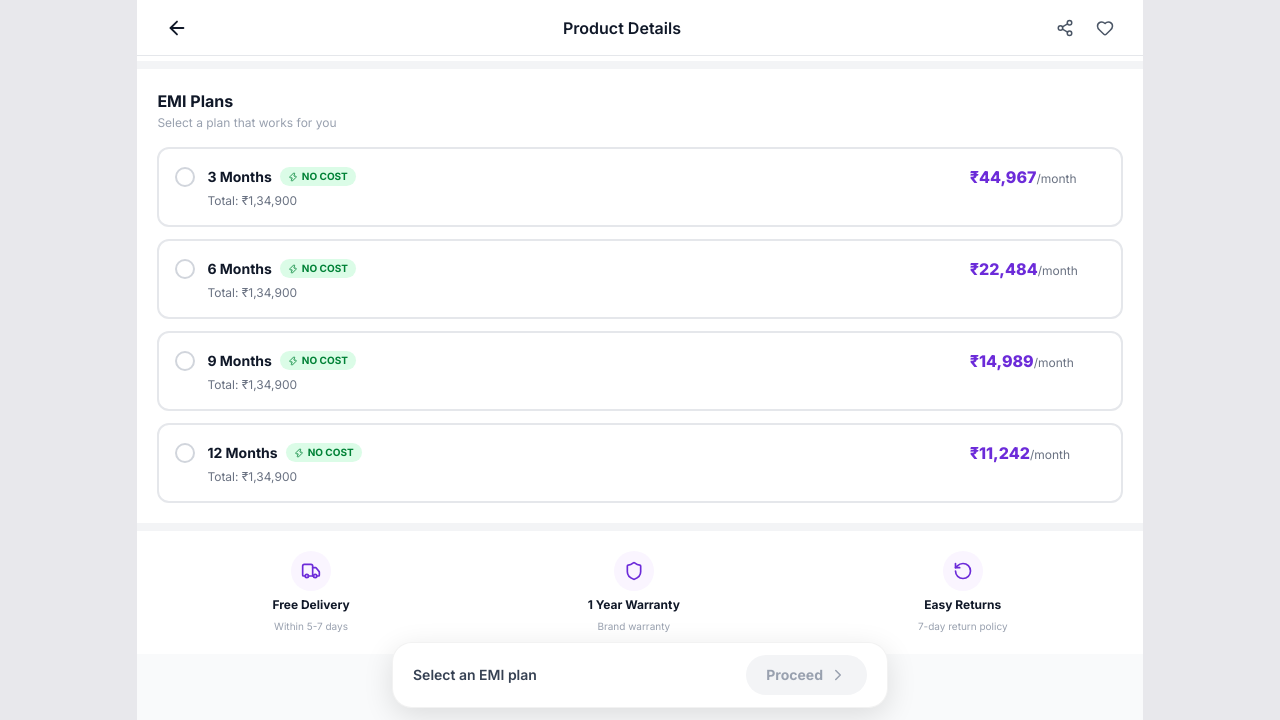
Test: ProductDetailPage Unit Tests › renders product details and handles EMI plan selection and proceed flow
(page scrolled)
Expected: the text "12 Months" is shown, [207,443,278,463]
Click the text "9 Months" at (240, 361), box [207,351,272,371]
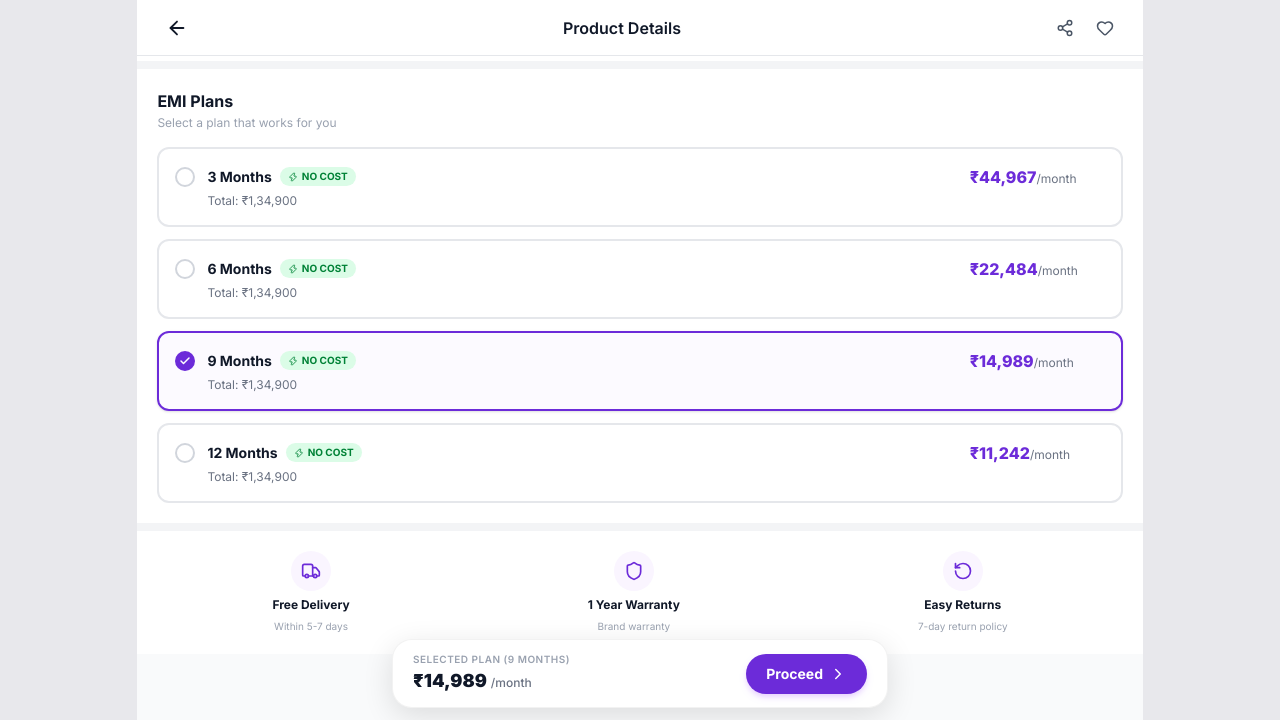
Expected: the button "Proceed" is enabled
Click the button "Proceed" at (807, 674), box [746,654,867,694]
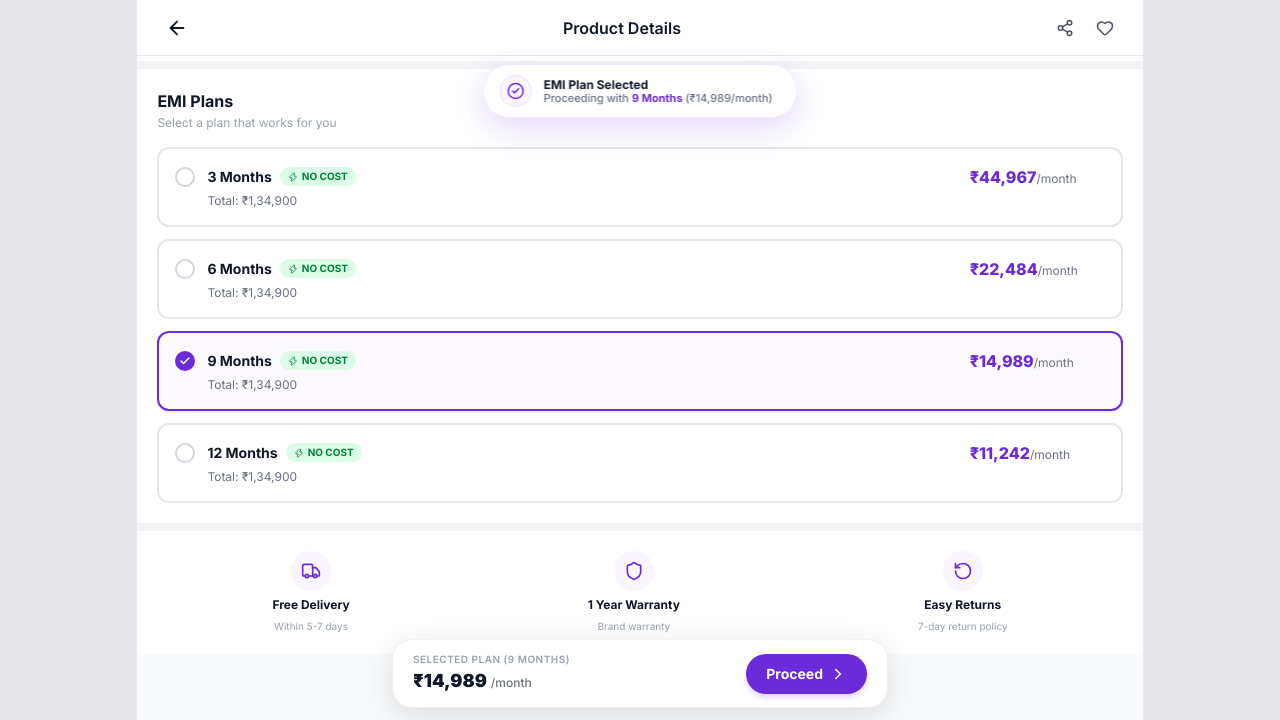
Expected: the text "EMI Plan Selected" is shown, [544,77,648,92]
Expected: the text "9 Months" next to "Proceeding with" is shown, [632,91,682,105]
